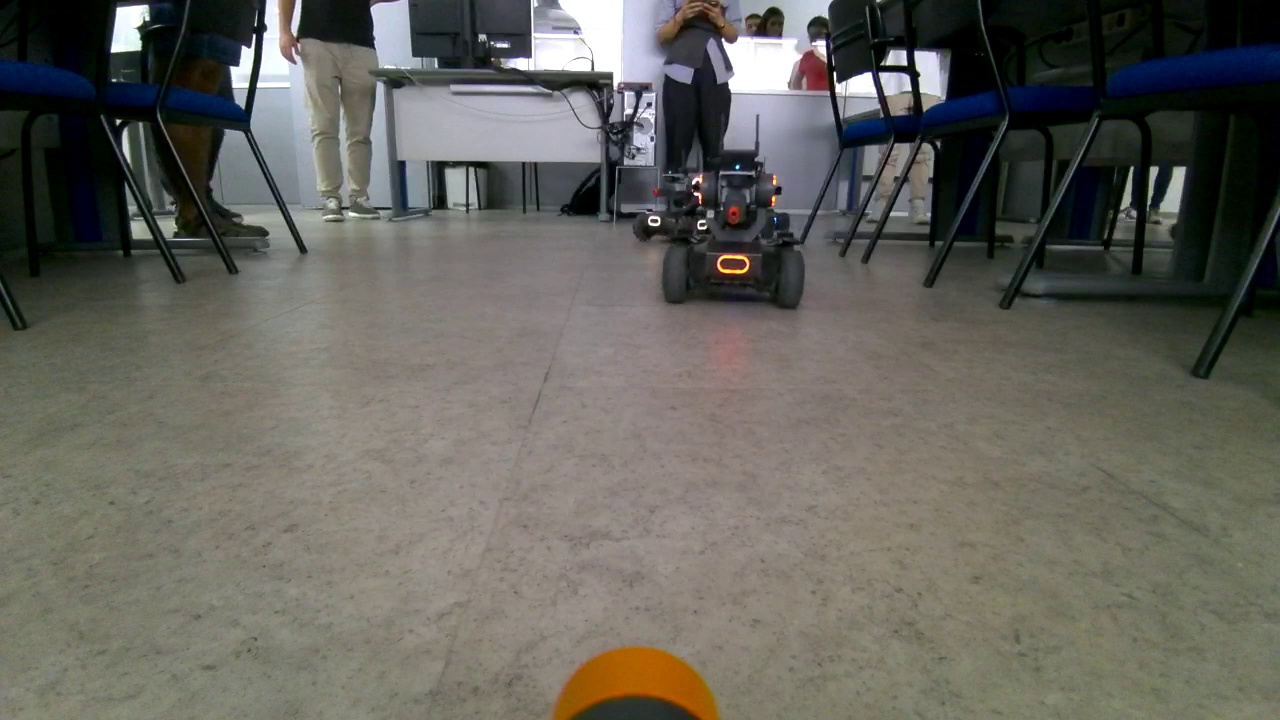robot: (653, 108, 826, 314), (625, 154, 726, 250)
